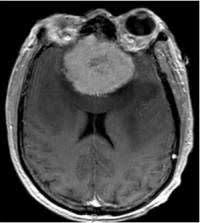Tumour-Meningioma: (54, 32, 151, 112)
